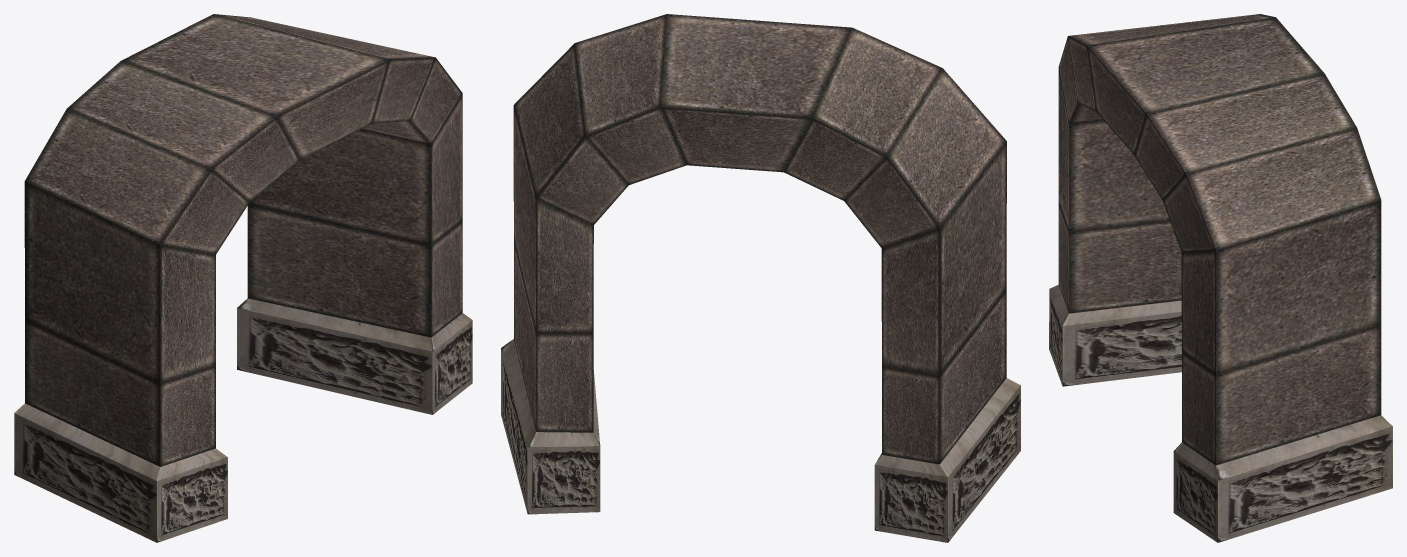
The model's file is doorx37.obj.
The picture shows the model from 3 angles, left to right: view 1: azimuth 30°, elevation 25°; view 2: azimuth 150°, elevation 25°; view 3: azimuth 270°, elevation 25°; orthographic projection. The views are drawn at different scales.
Parts seen in each view (by area): view 1: doorx37; view 2: doorx37; view 3: doorx37.
Boxes of the visible parts, bbox=[...] form: doorx37: bbox=[14, 14, 472, 542]; doorx37: bbox=[501, 14, 1020, 542]; doorx37: bbox=[1049, 14, 1392, 542].
Size of the model in its own units: 159 by 131 by 110.
